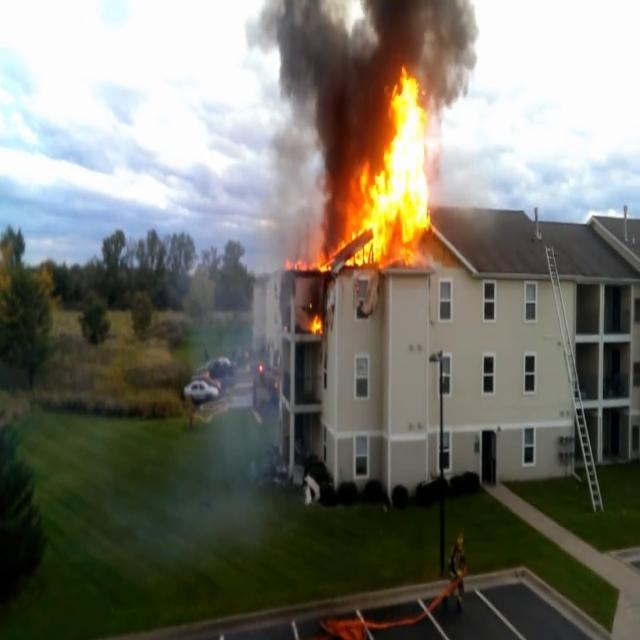Fire: (352, 67, 430, 267)
Smoke: (246, 0, 478, 258)
